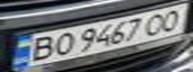4: (93, 21, 115, 48)
6: (109, 19, 130, 45)
7: (121, 16, 148, 43)
9: (75, 25, 100, 53)
B: (21, 34, 60, 63)
O: (154, 7, 190, 34), (139, 10, 172, 36), (48, 32, 78, 58)
